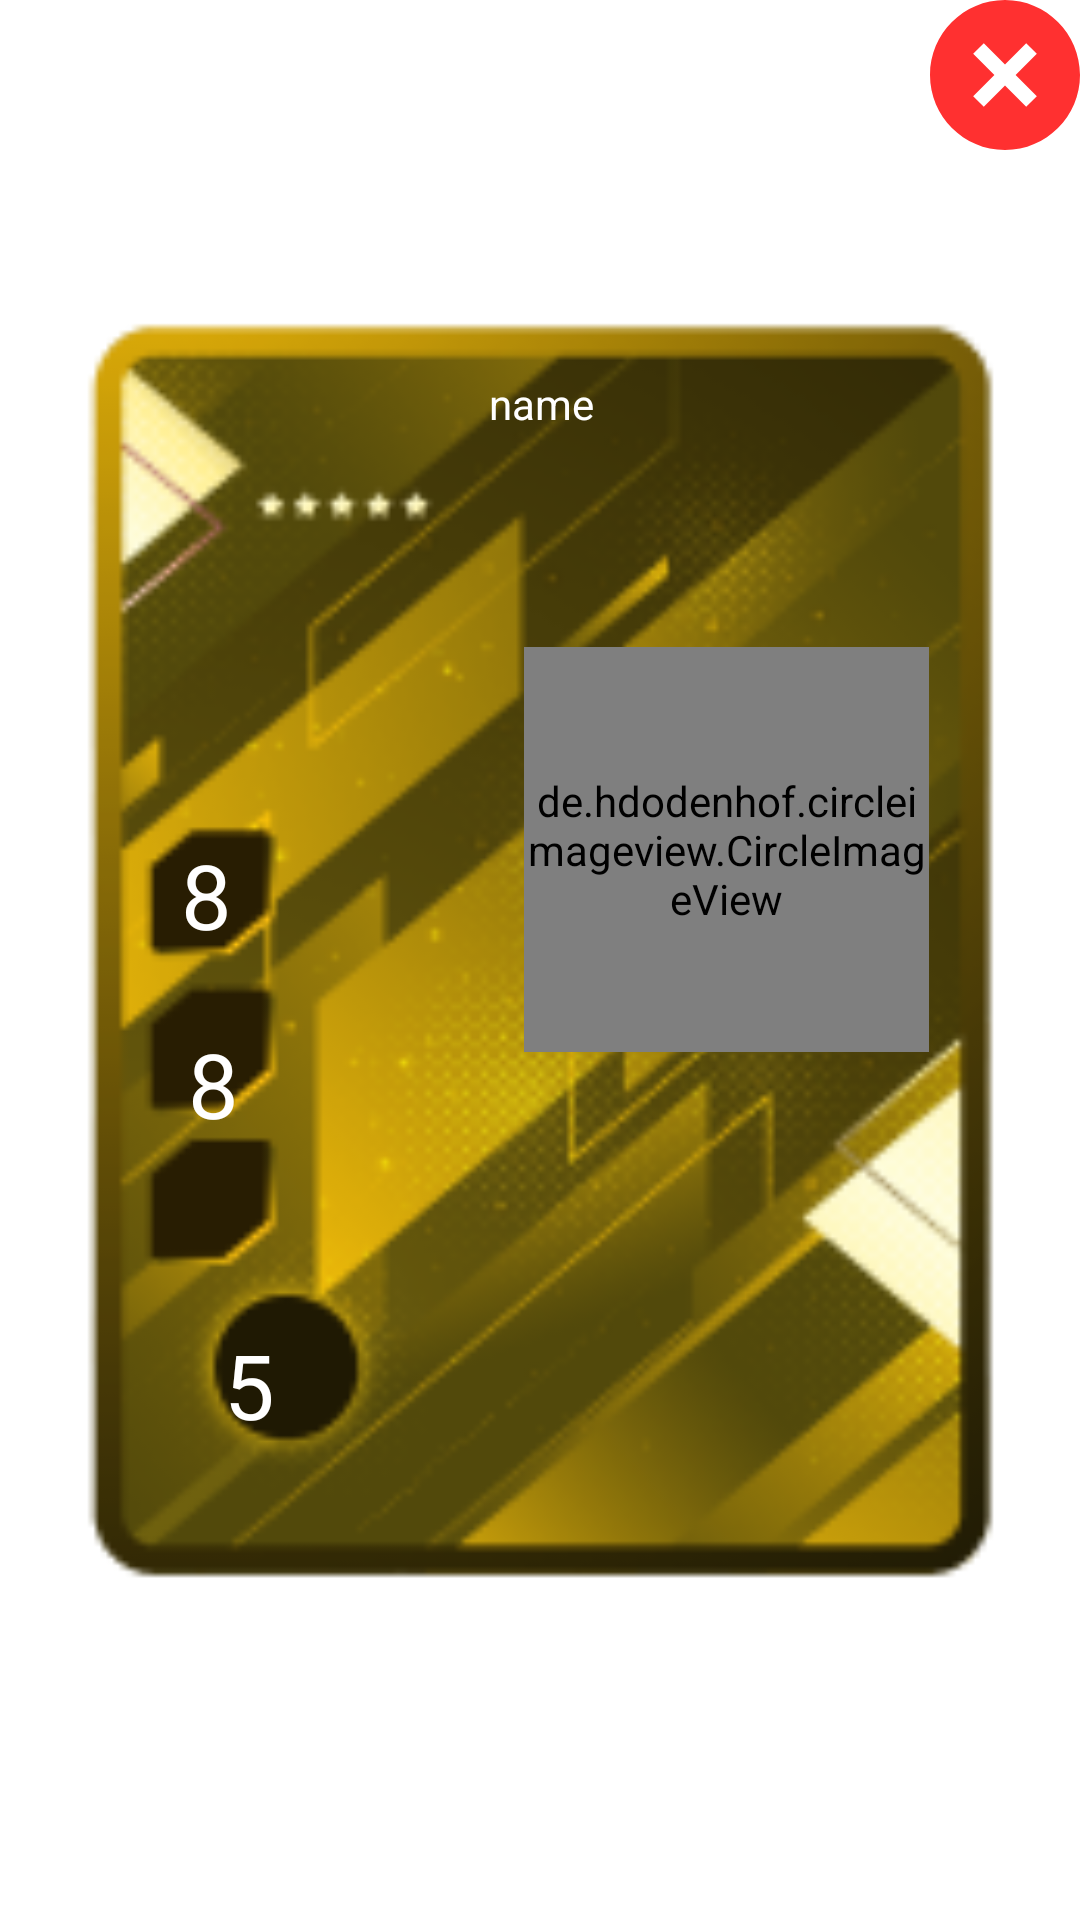

Screen size 1080*1920. Icon name, then its center in pixels as point (x, y):
close: point (1005, 75)
